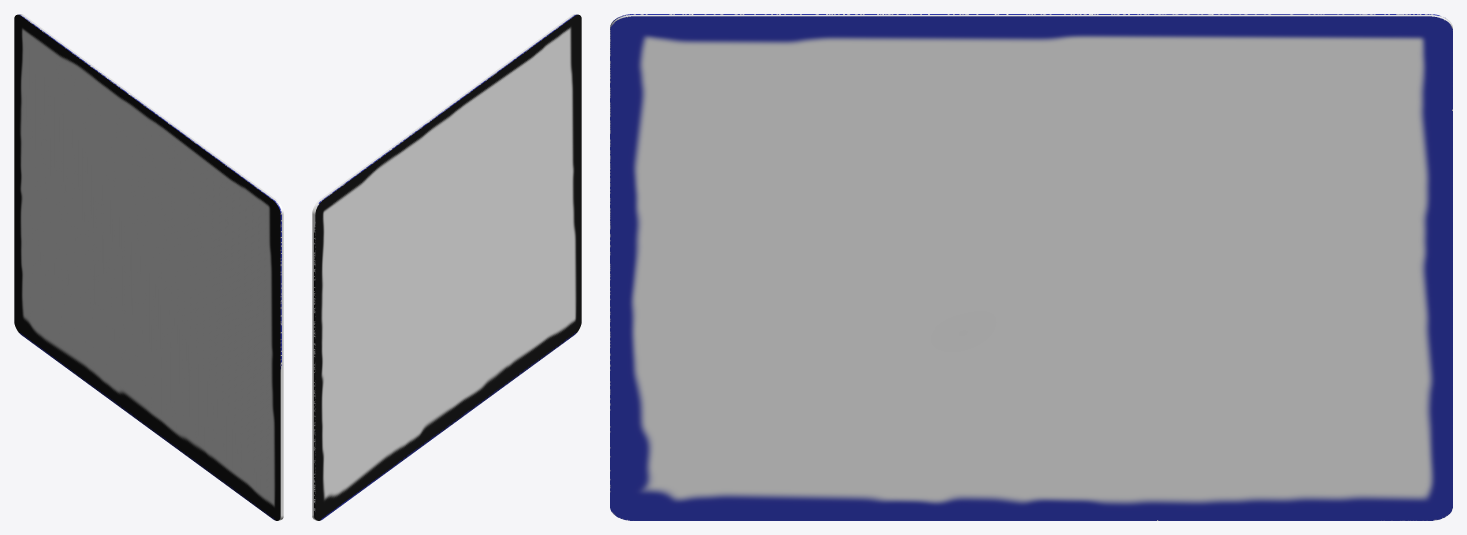
The model's file is card-template-edit2.fbx.
3 views of the same model, side by side, from view 1: azimuth 30°, elevation 25°; view 2: azimuth 150°, elevation 25°; view 3: azimuth 270°, elevation 25° (orthographic). The views are drawn at different scales.
Parts seen in each view (by area): view 1: Plane; view 2: Plane; view 3: Plane.
Boxes of the visible parts, left/top/right/bottom form: Plane: left=14, top=14, right=283, bottom=520; Plane: left=312, top=14, right=581, bottom=520; Plane: left=610, top=14, right=1452, bottom=520.
Size of the model in its own units: 1.19 by 116 by 175.
